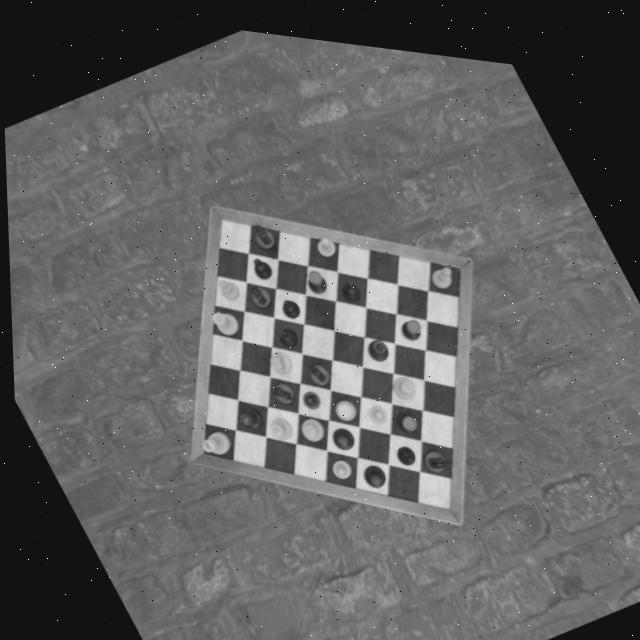chessboard: (200, 213, 458, 497)
